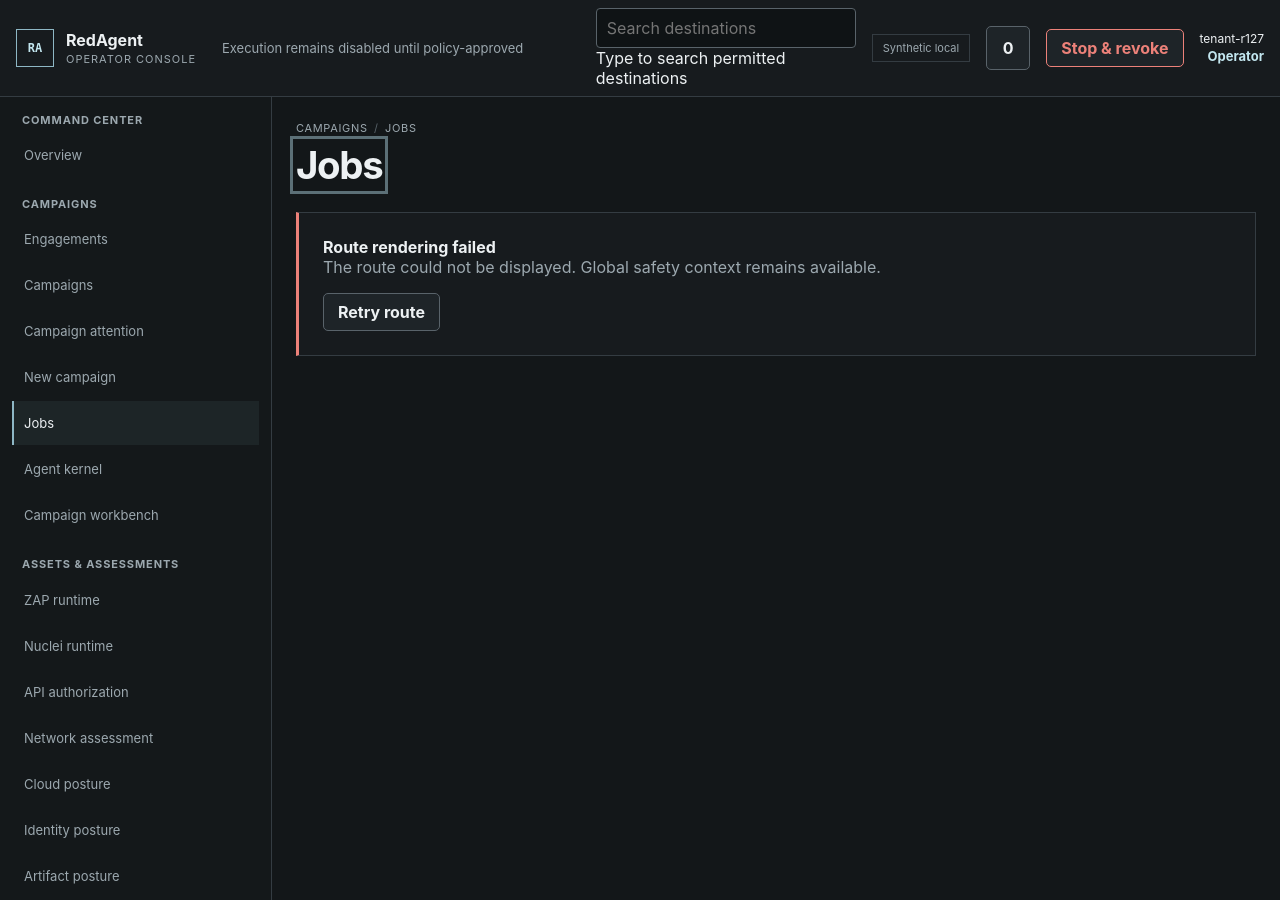
compat_127 operational shell › recreates a rejected lazy route import before retrying
The image size is (1280, 900).
Expected: the message "Route rendering failed" is shown, [296,212,1256,356]
Click the button "Retry route": [382, 312] box [323,293,440,331]
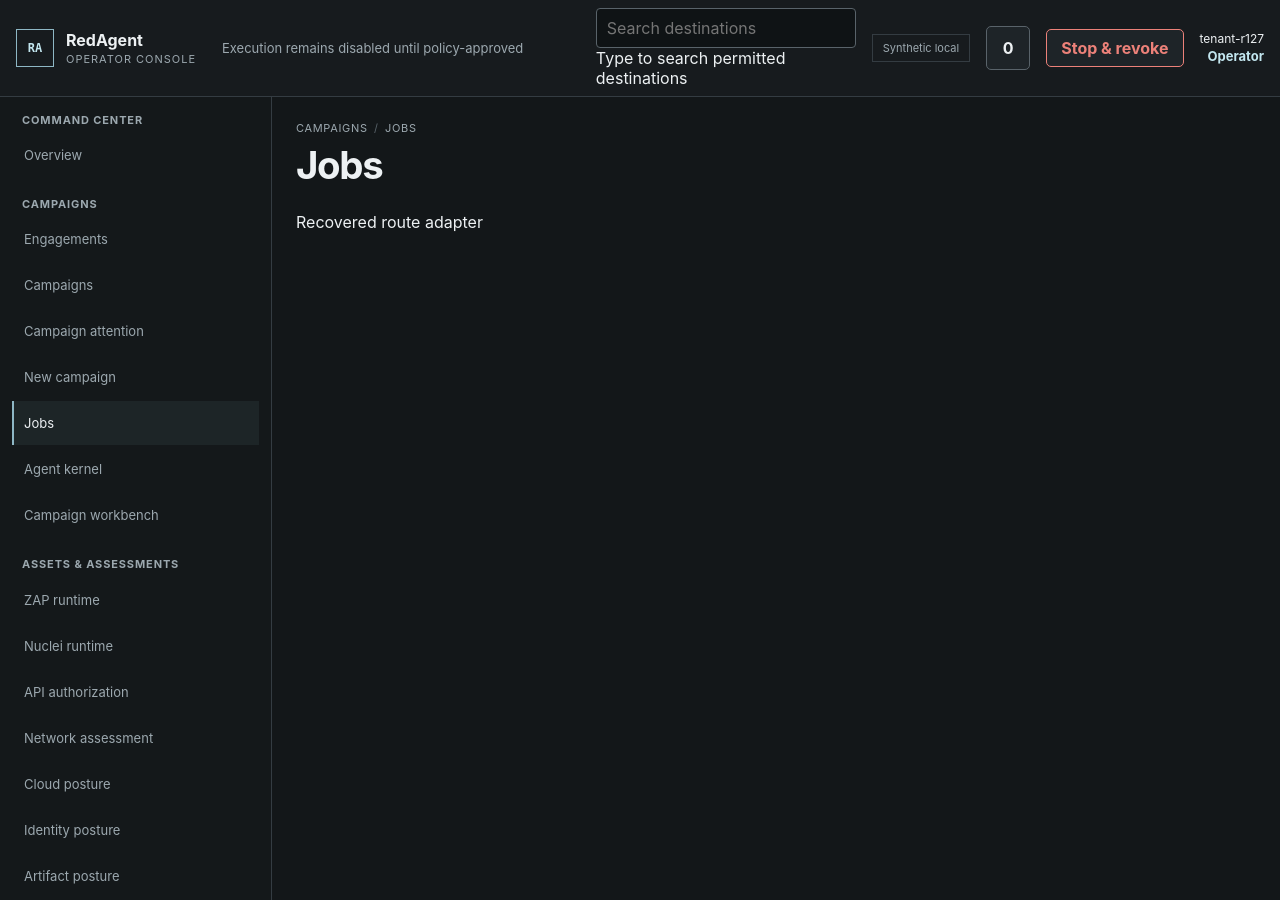
Expected: the text "Recovered route adapter" is shown, [296,212,483,232]
